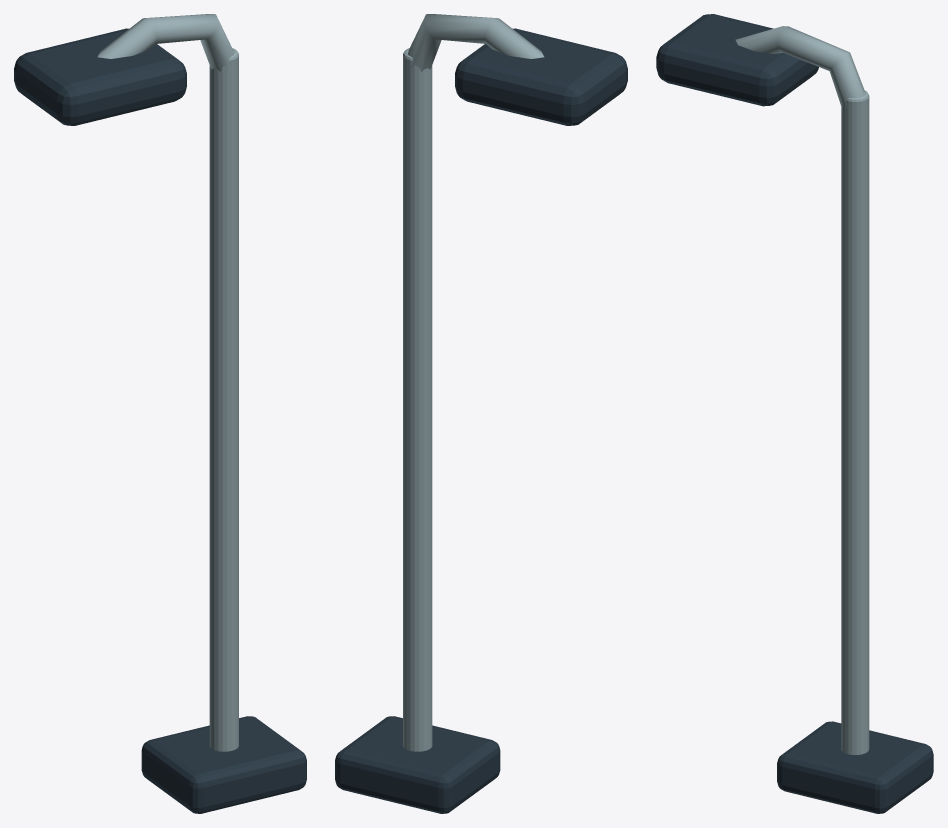
The model's file is SM_Lamp.fbx.
3 views of the same model, side by side, from view 1: azimuth 30°, elevation 25°; view 2: azimuth 150°, elevation 25°; view 3: azimuth 330°, elevation 25° (orthographic). The views are drawn at different scales.
Visible parts, largest first — view 1: SM_Lamp; view 2: SM_Lamp; view 3: SM_Lamp.
Boxes of the visible parts, box(x1,y1,x2,y2) form: SM_Lamp: box(14, 14, 306, 813); SM_Lamp: box(335, 14, 627, 813); SM_Lamp: box(656, 14, 933, 813).
Bounding box in the file's own units: 105 × 42 × 321.
